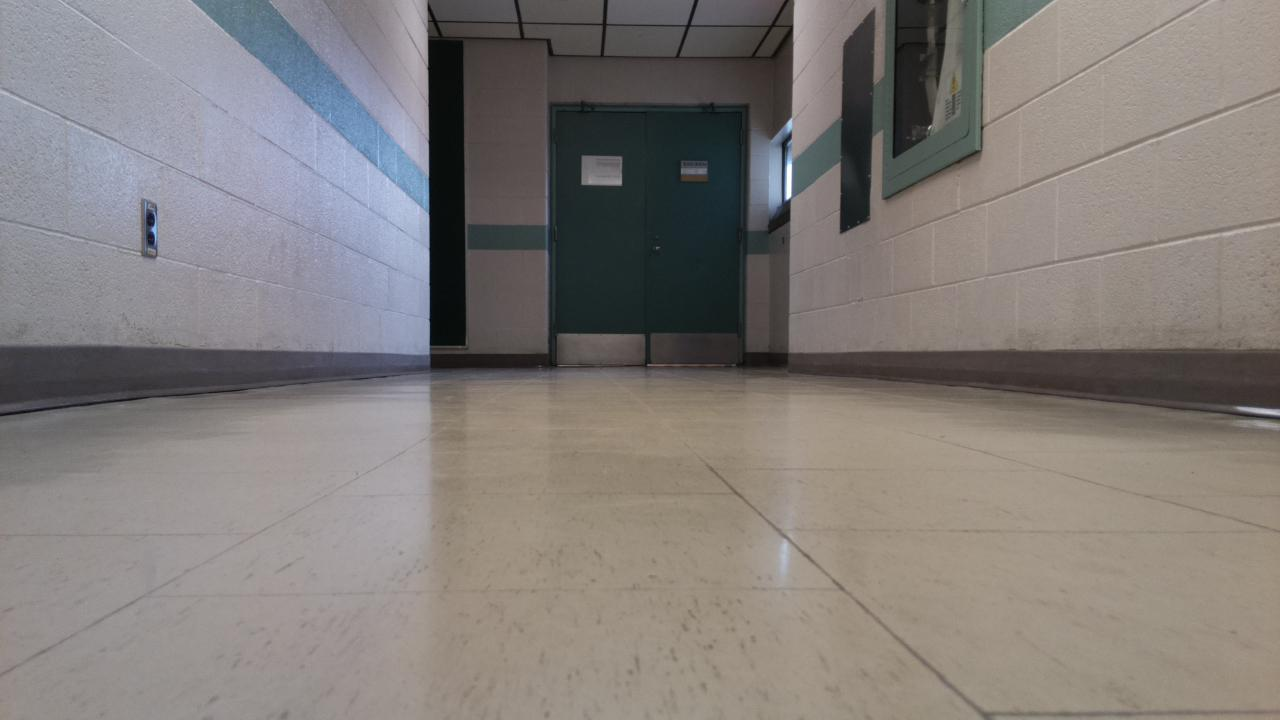door: (555, 111, 741, 365)
sign: (681, 161, 706, 180)
